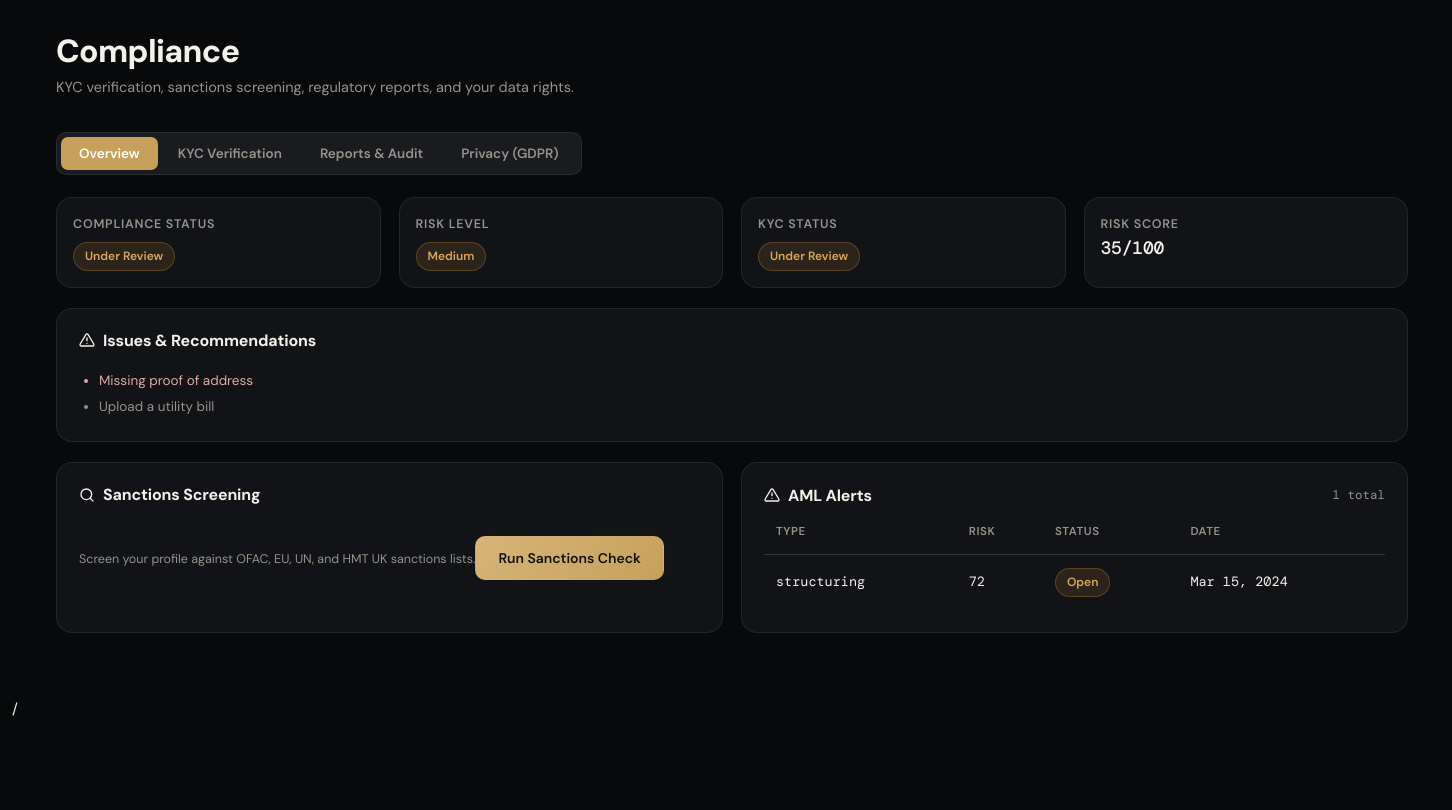
it: overview tab › sanctions › reports potential matches
Expected: the heading "Sanctions Screening" is shown, [79, 485, 260, 504]
Click the button "Run Sanctions Check": (570, 558) [475, 536, 664, 580]
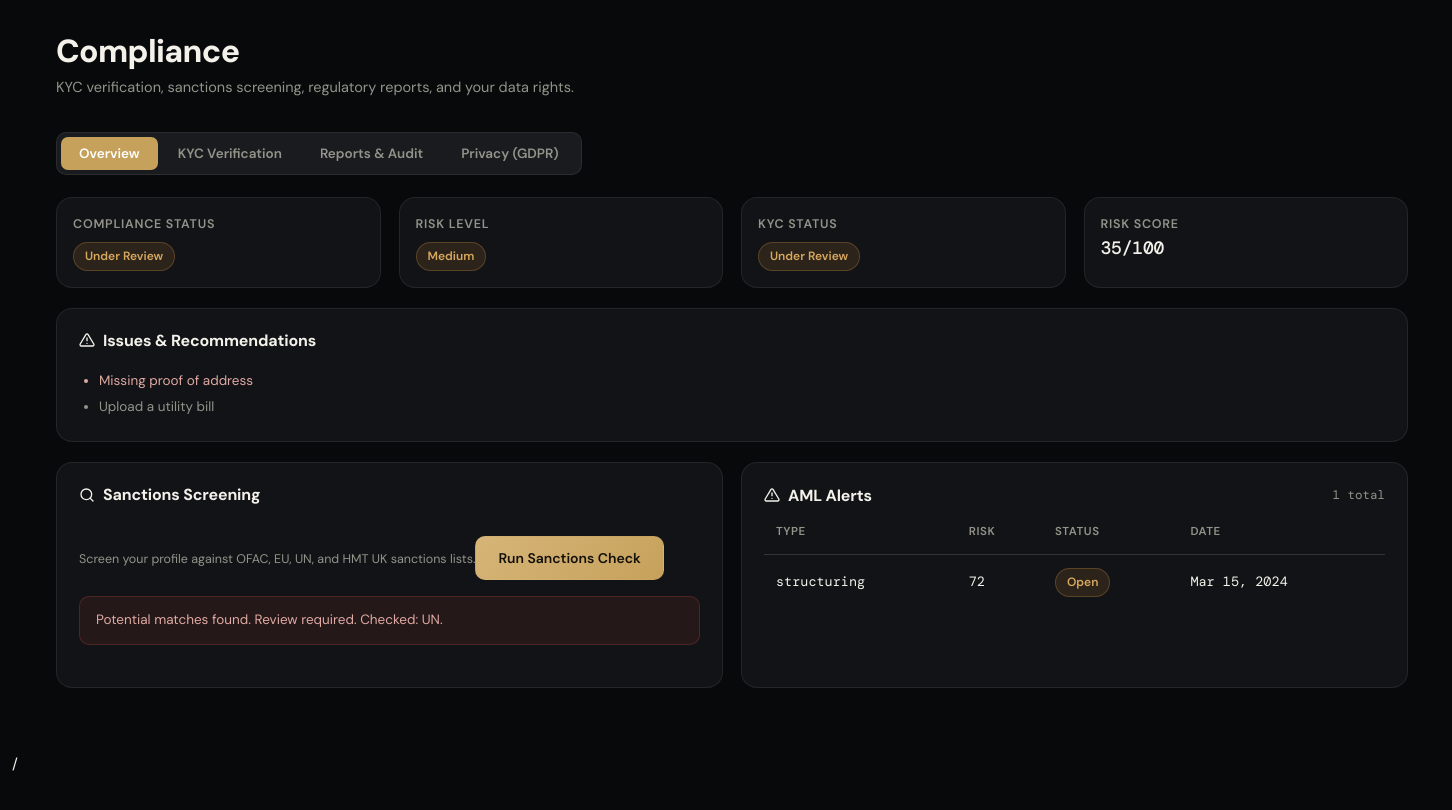
Now the text "Potential matches found. Review required. Checked: UN." is shown, box [79, 596, 700, 645]
